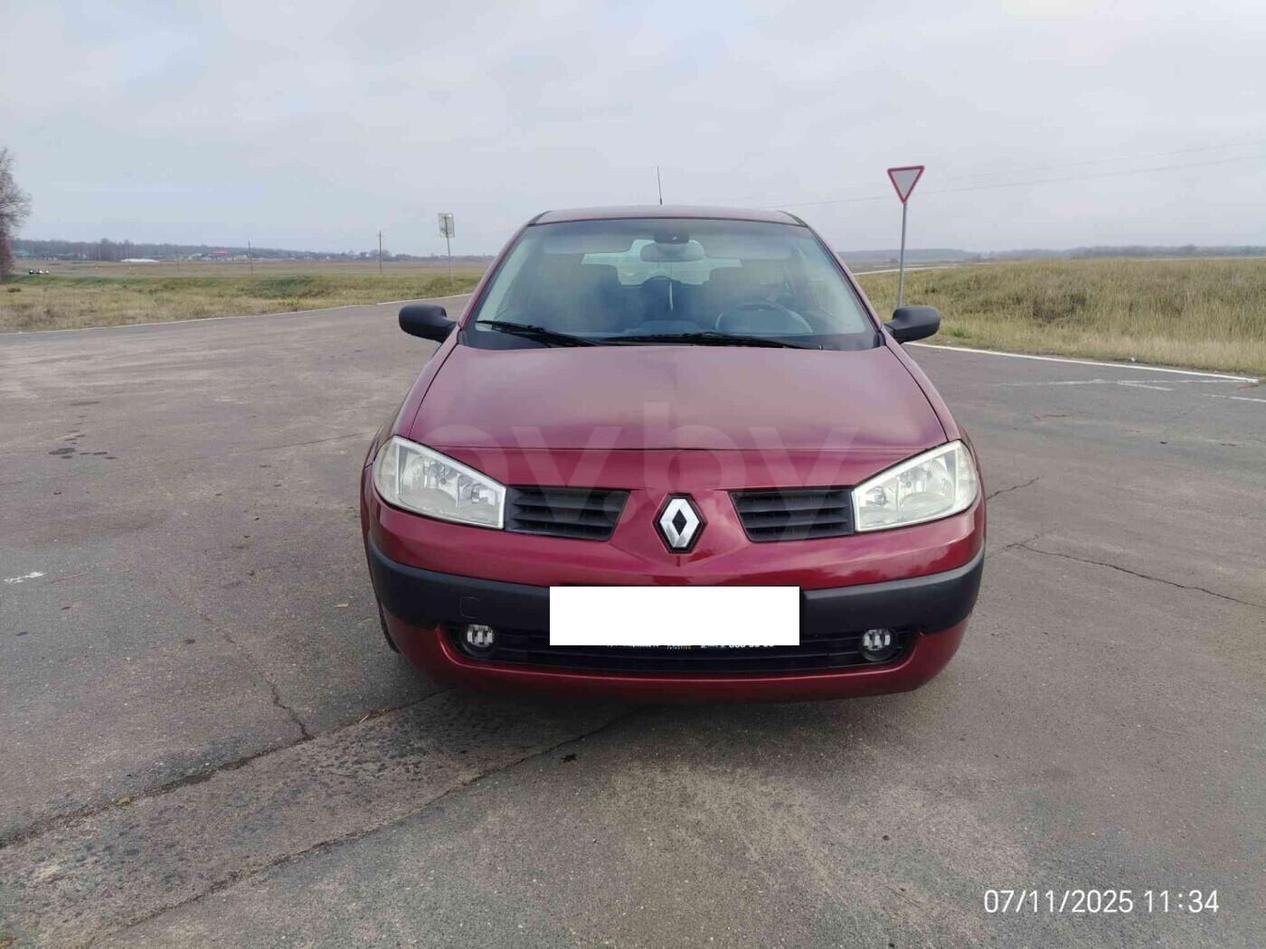Megane_2002-2006: (360, 203, 1002, 723)
